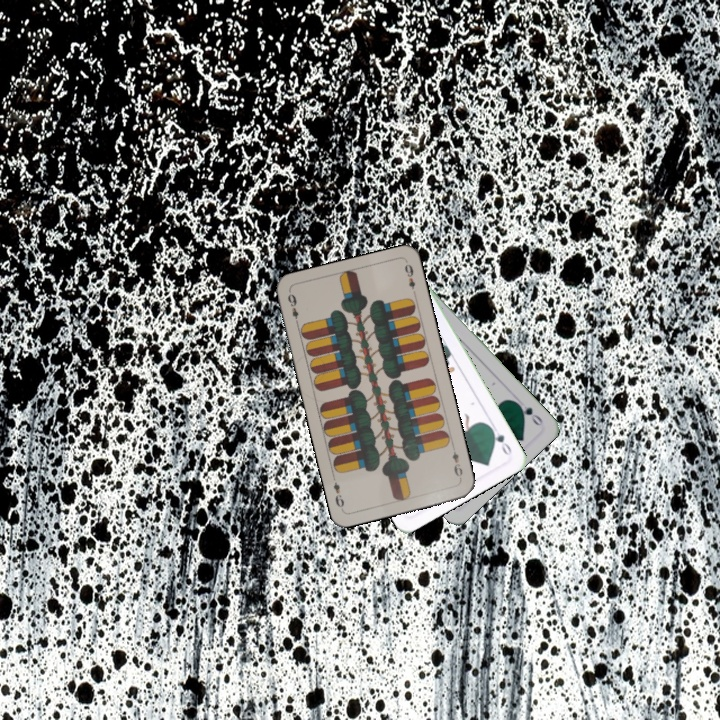E9: (448, 442, 465, 482), (284, 289, 301, 328)
GO: (512, 398, 545, 428), (486, 423, 514, 458)
